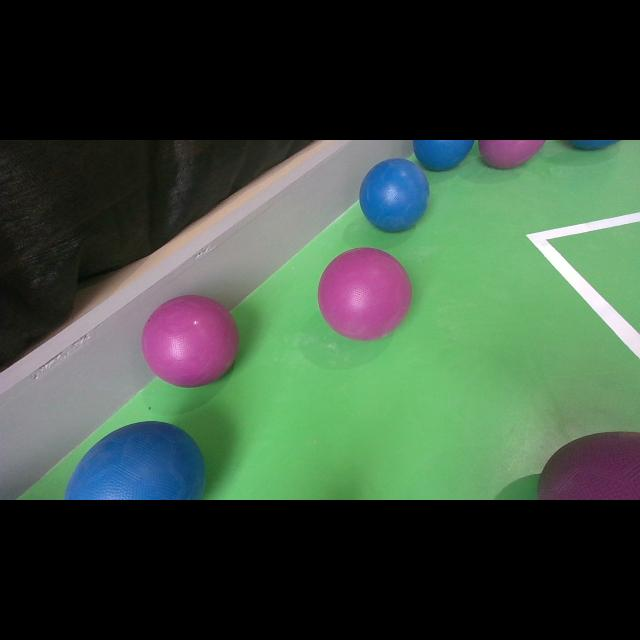B: (359, 158, 429, 232)
P: (141, 294, 239, 388), (318, 247, 412, 341)
